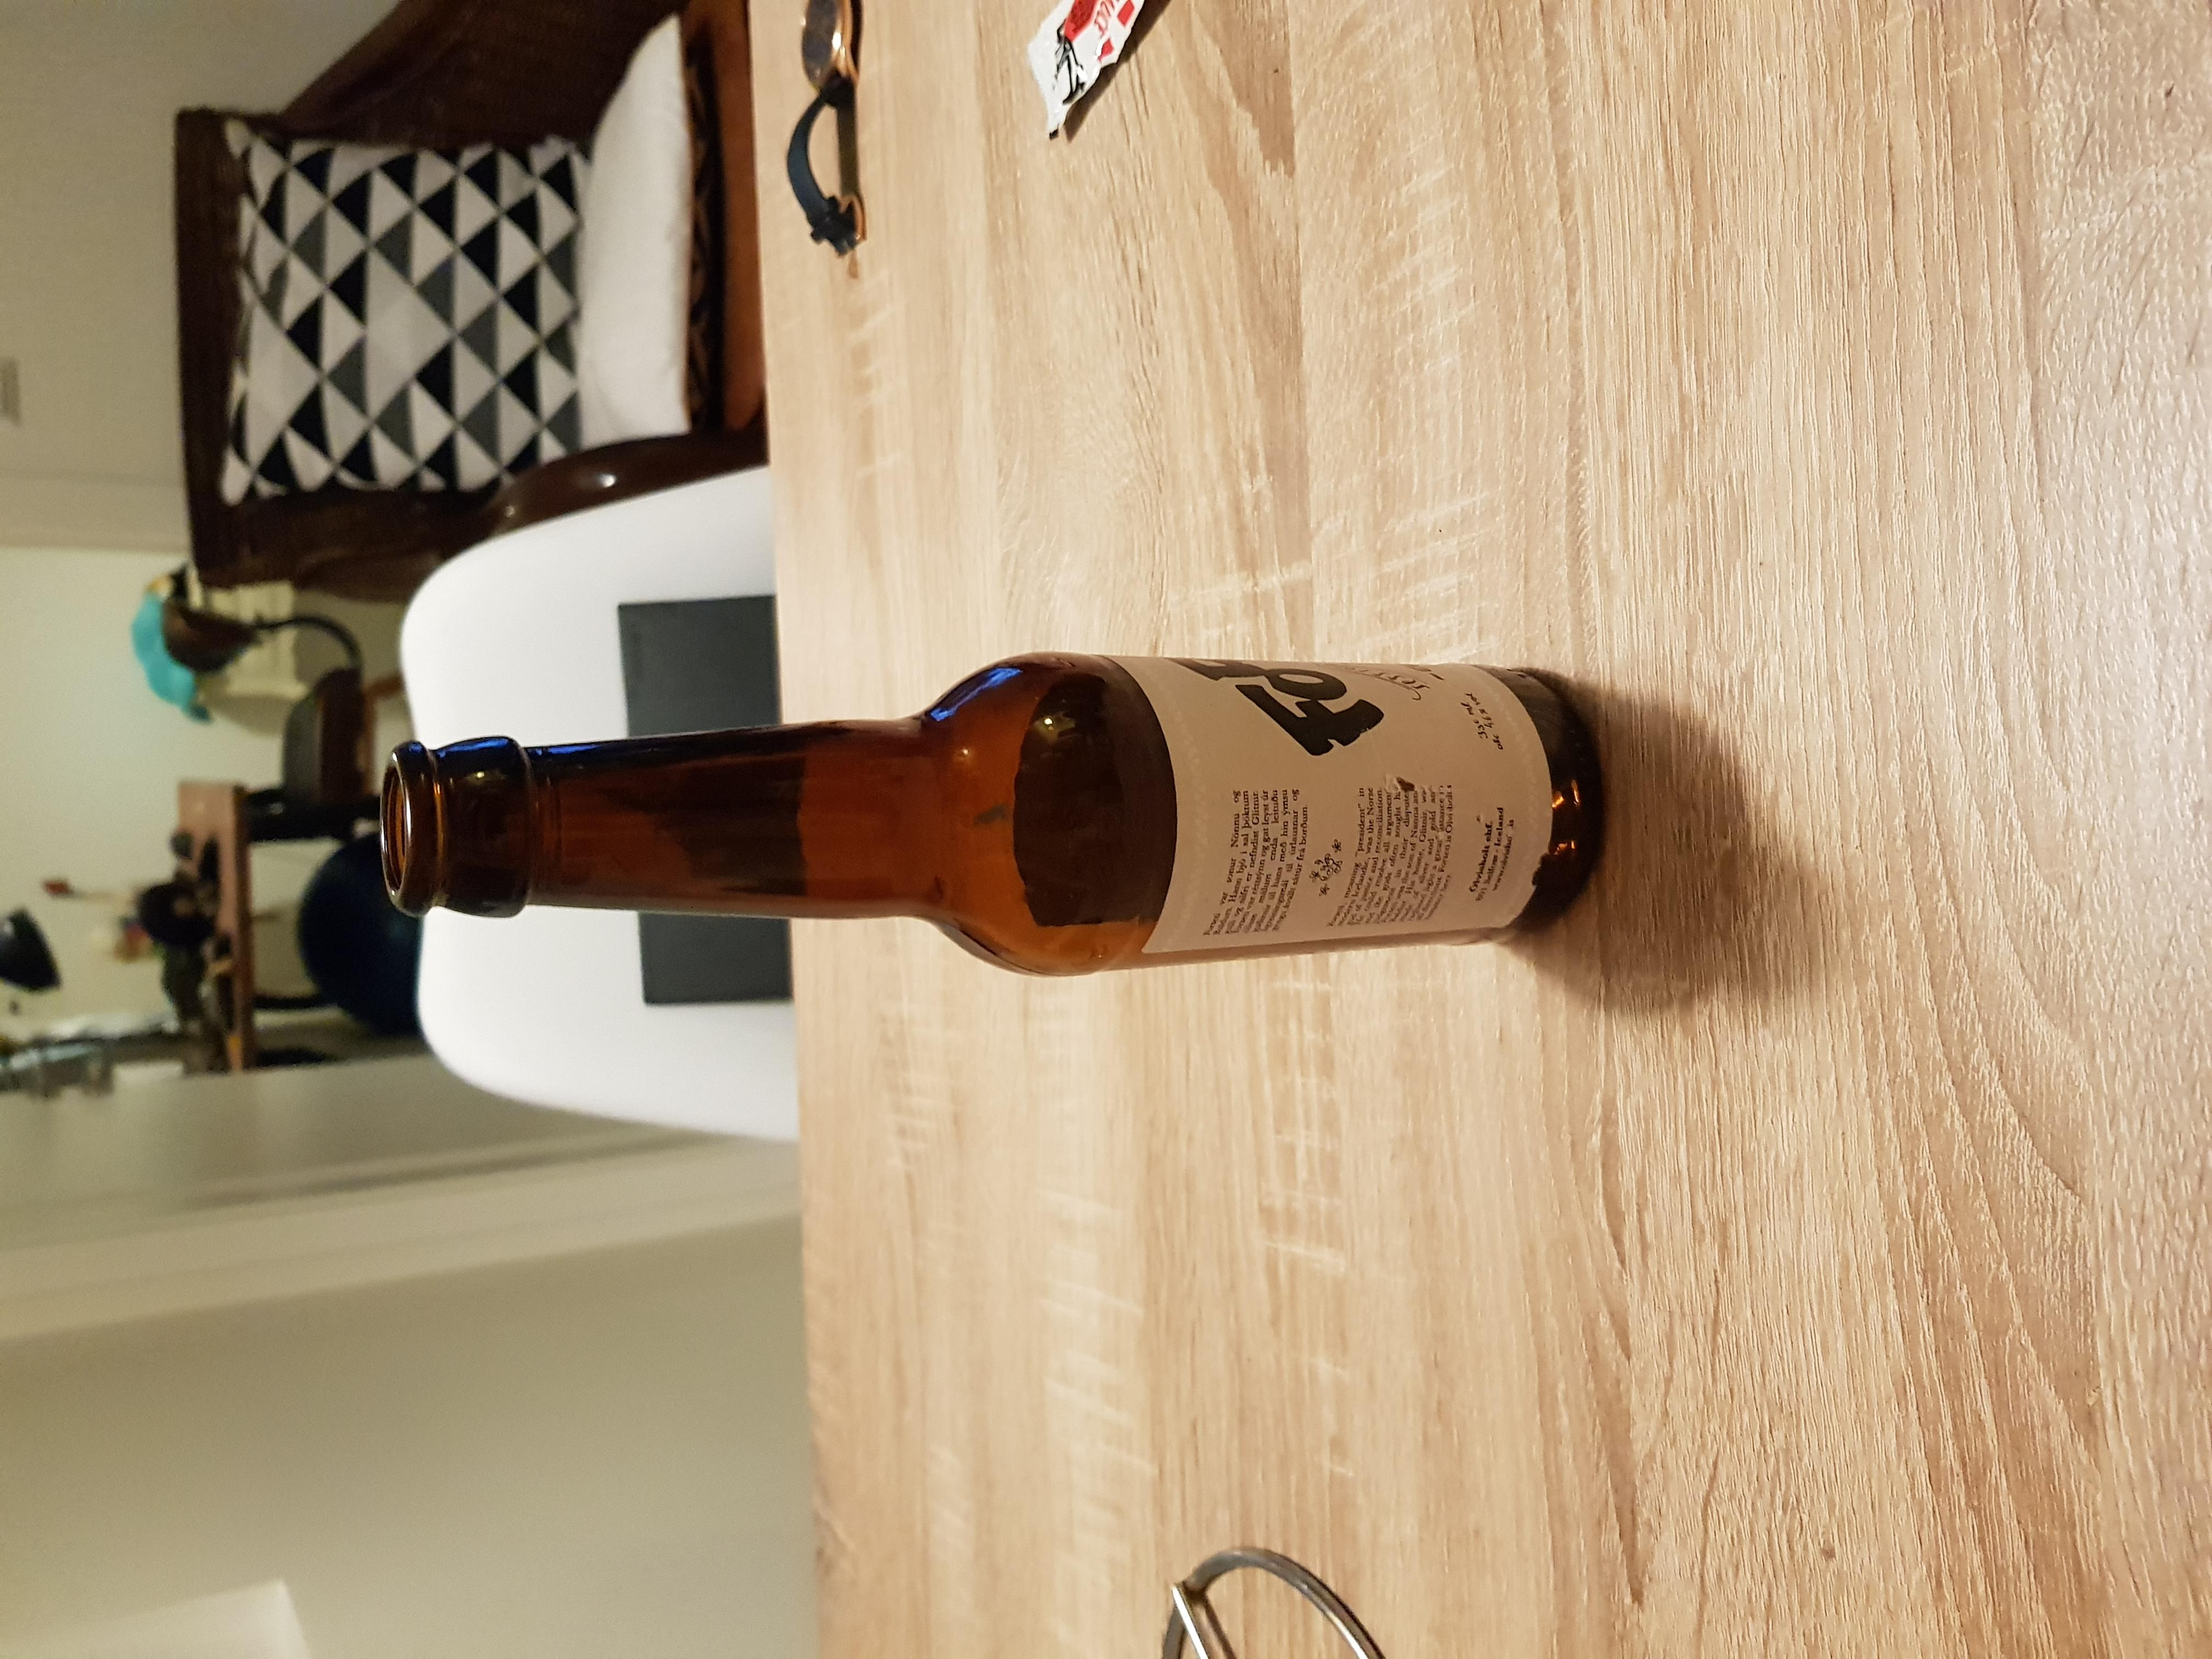bottle: (378, 645, 1588, 972)
